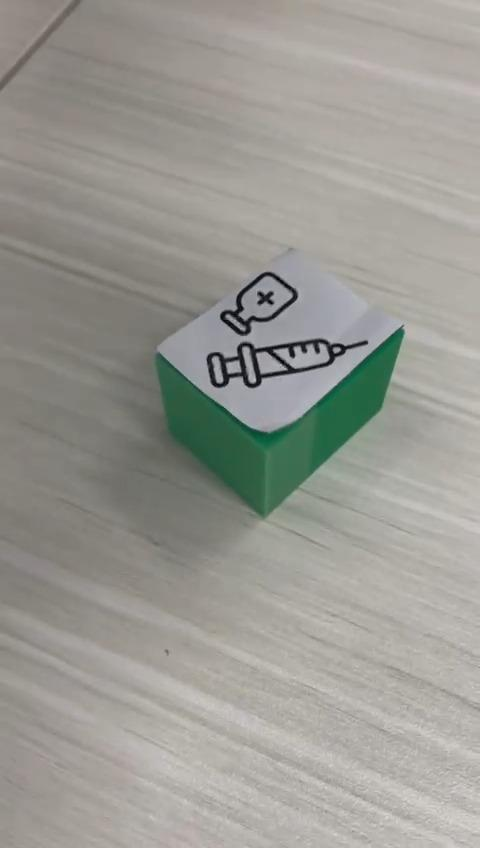antiseptic cream: (153, 245, 406, 518)
